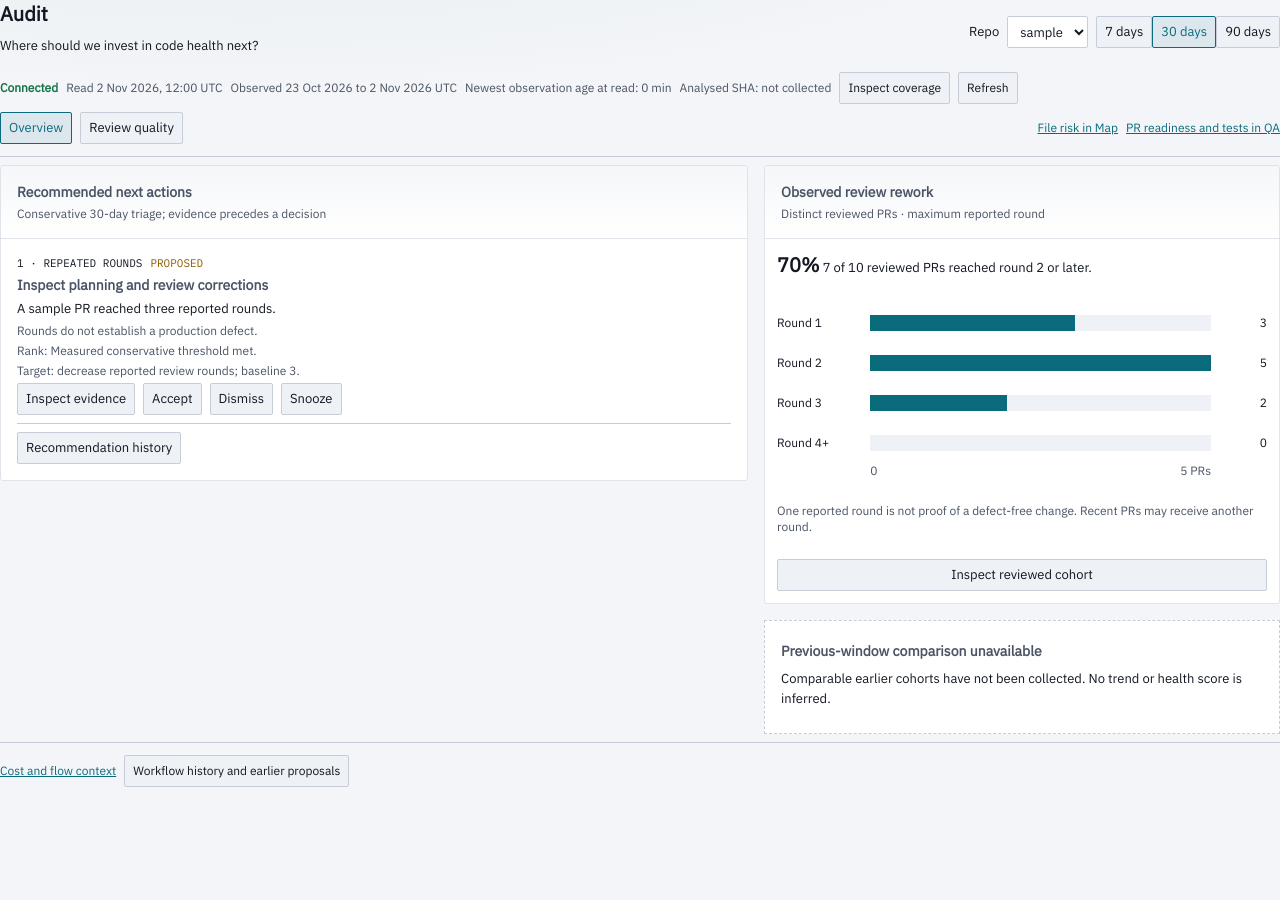
Test case: waits for the server and retries an unconfirmed decision with the same request payload
The image size is (1280, 900).
Expected: the heading "Inspect planning and review corrections" is shown, top-left (17, 276), bottom-right (268, 294)
Click the button "Accept" at [172, 399], box top-left (143, 383), bottom-right (202, 415)
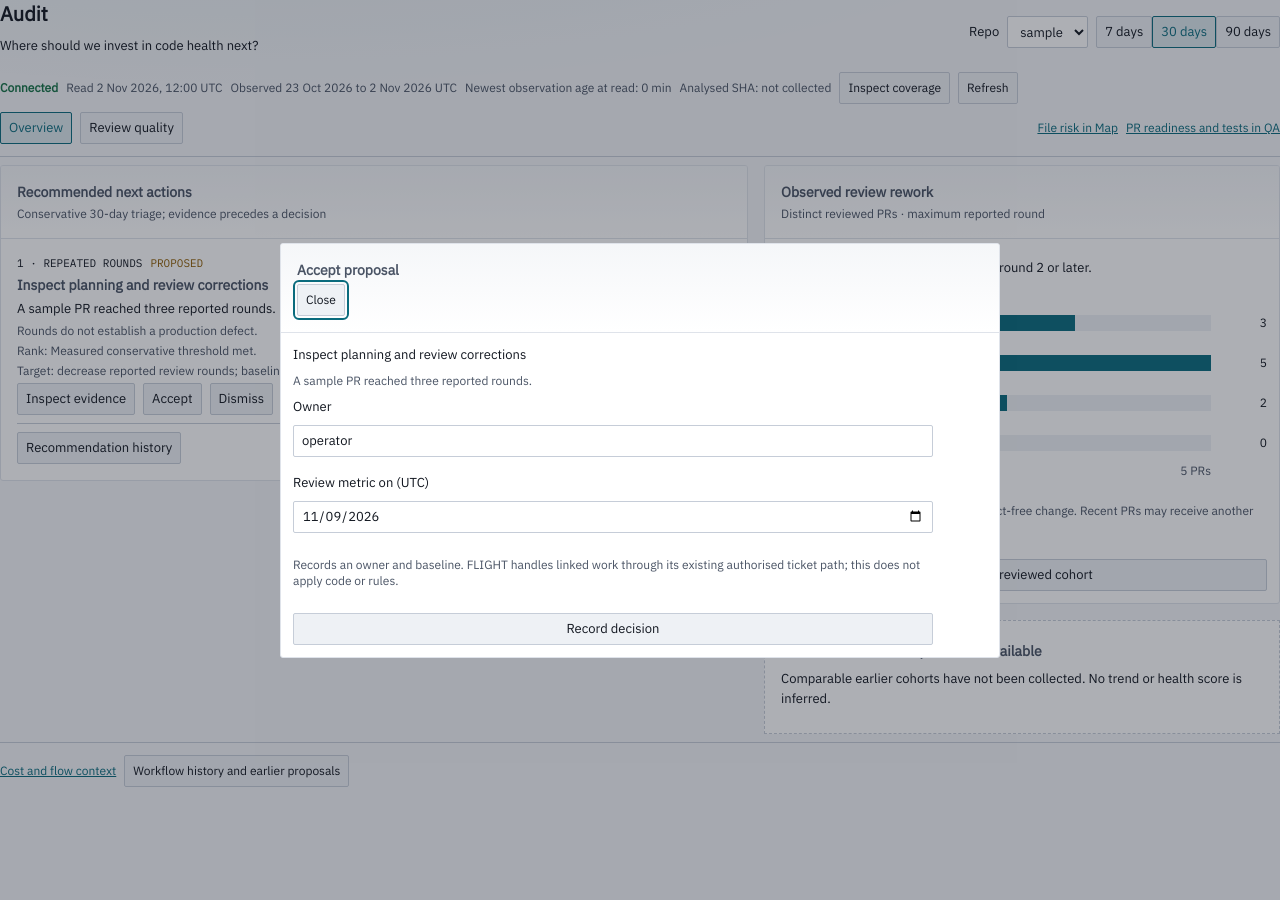
Click the button "Record decision" at [613, 628], box top-left (293, 612), bottom-right (933, 644)
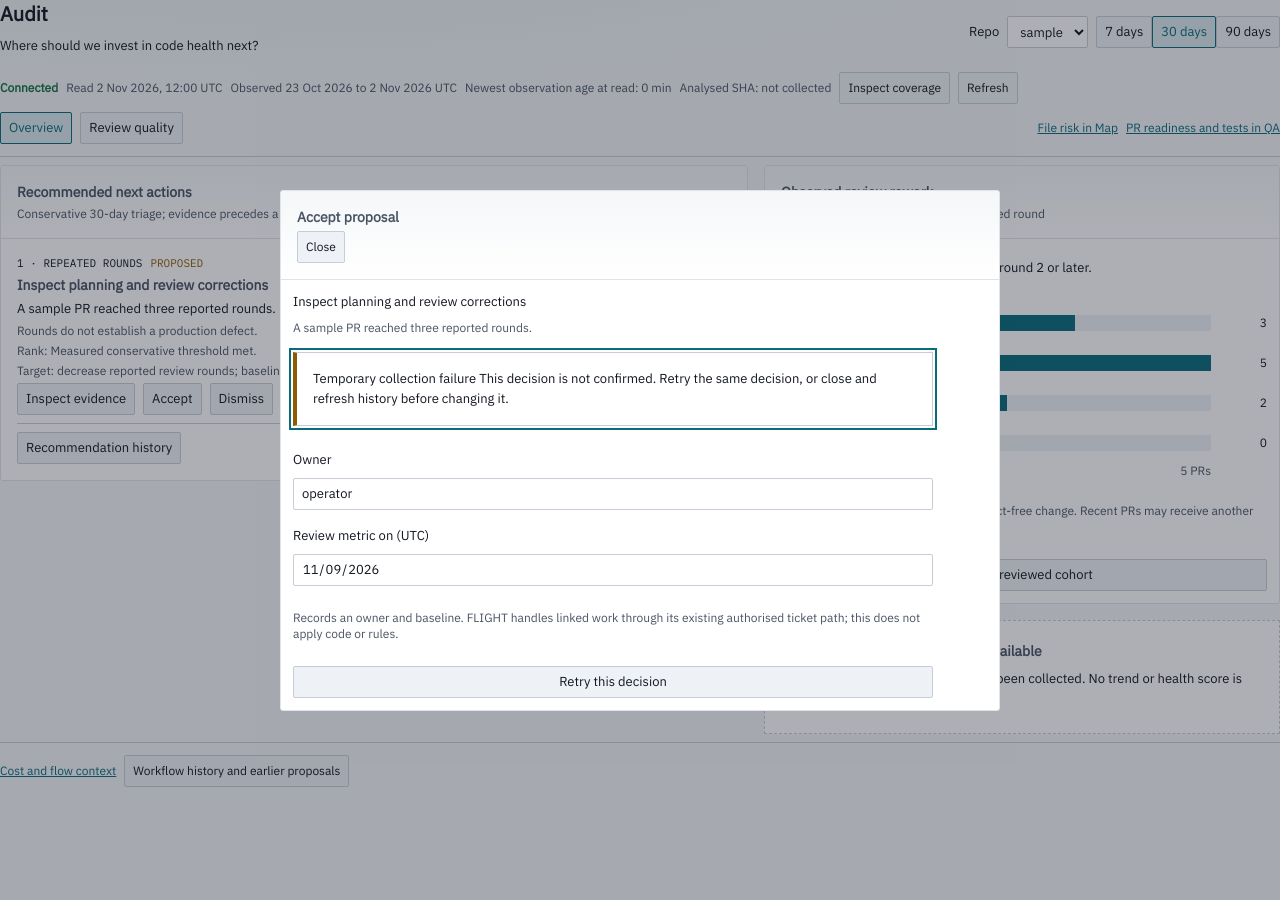
Expected: the text "Decision recorded: accepted" is not shown
Now the message is shown, box top-left (293, 352), bottom-right (933, 426)
Now the field labelled "Owner" is disabled, box top-left (293, 478), bottom-right (933, 510)
Click the button "Retry this decision" at [613, 682], box top-left (293, 666), bottom-right (933, 698)
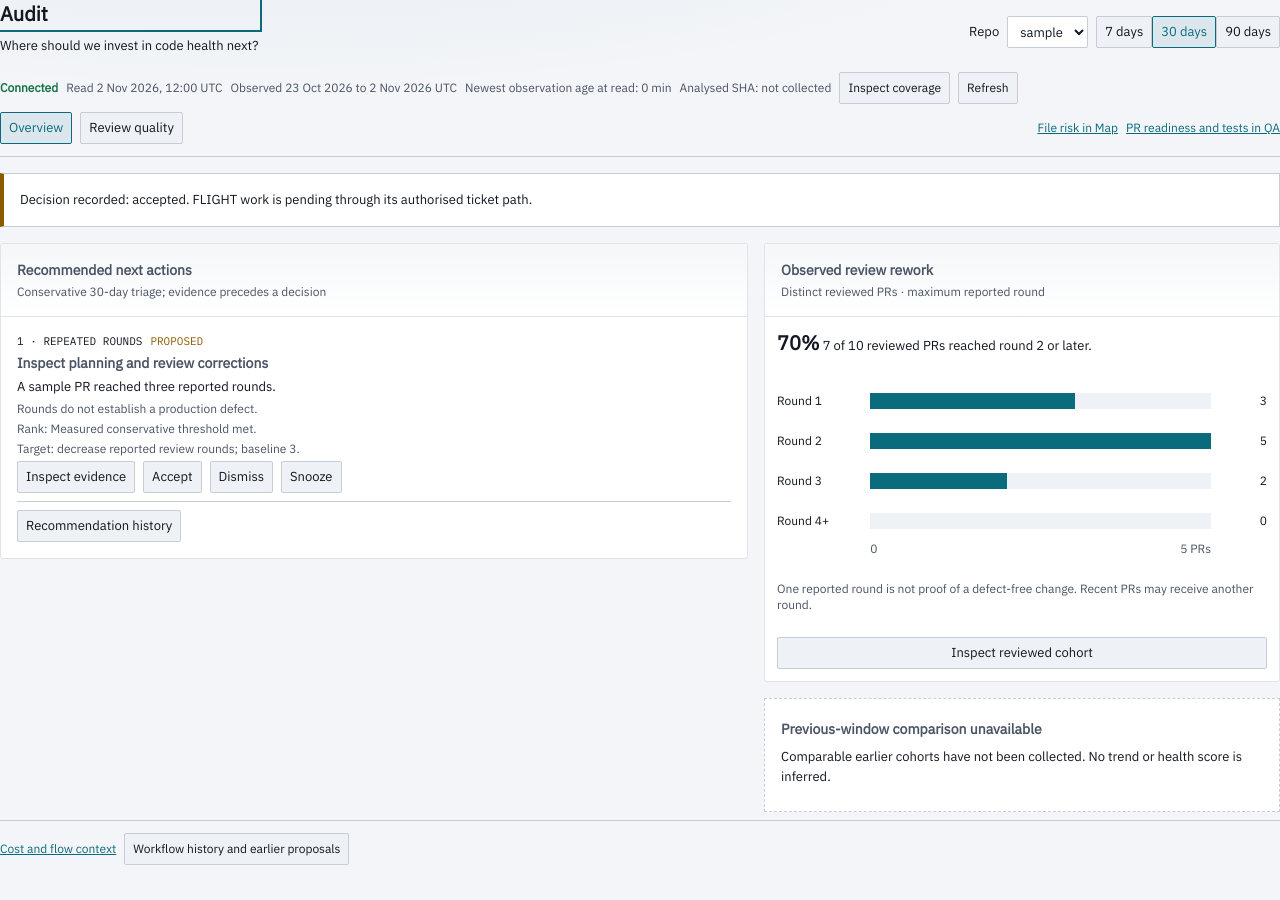
Now the text "Decision recorded: accepted" is shown, box top-left (20, 191), bottom-right (532, 208)
